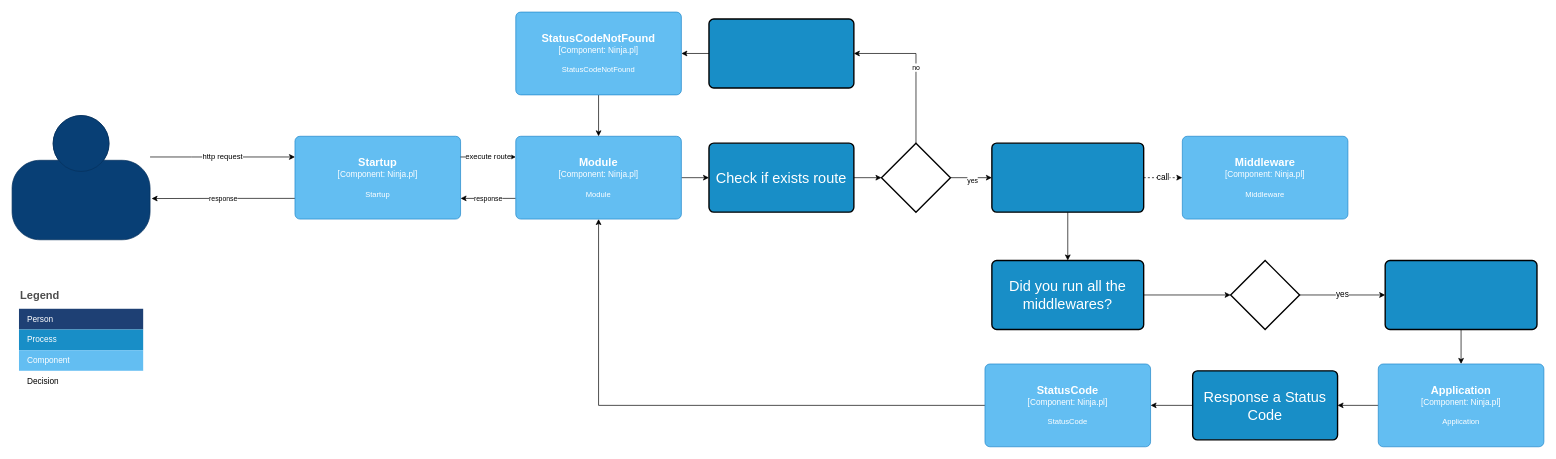
Image size: 1556x459. Some labels were removed from this diagram. The shapes that lost their labels are listed below. From the top down, each one's box as (x1, y1, x2, y2) in pixels, then its label:
(708, 18, 854, 88): Response Status Code 404
(11, 115, 150, 240): Client [Person] Client Person
(991, 142, 1144, 213): Run all middleware on the route
(1384, 259, 1537, 330): Run route method
